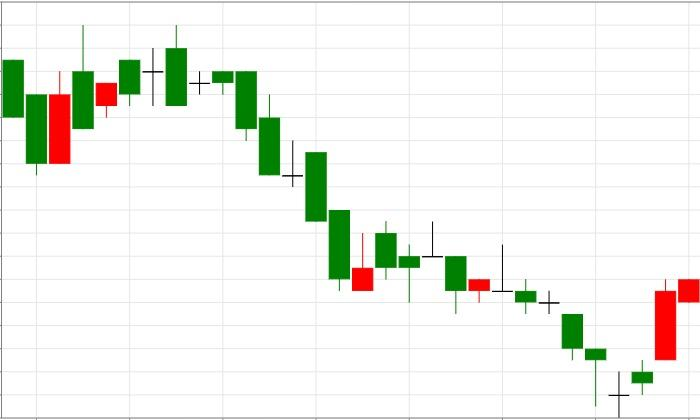inverse_hammer_rise: (212, 70, 373, 291)
